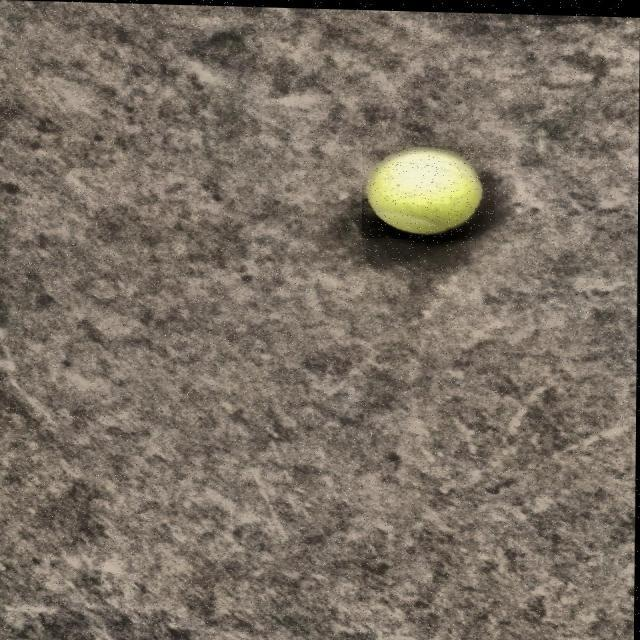tennis-ball: (363, 142, 498, 240)
